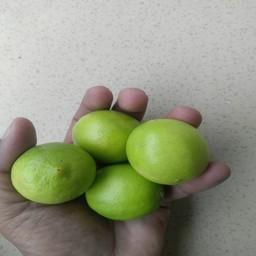Good_lime: (124, 118, 214, 185), (8, 141, 94, 204), (85, 159, 162, 221), (76, 111, 149, 158)
